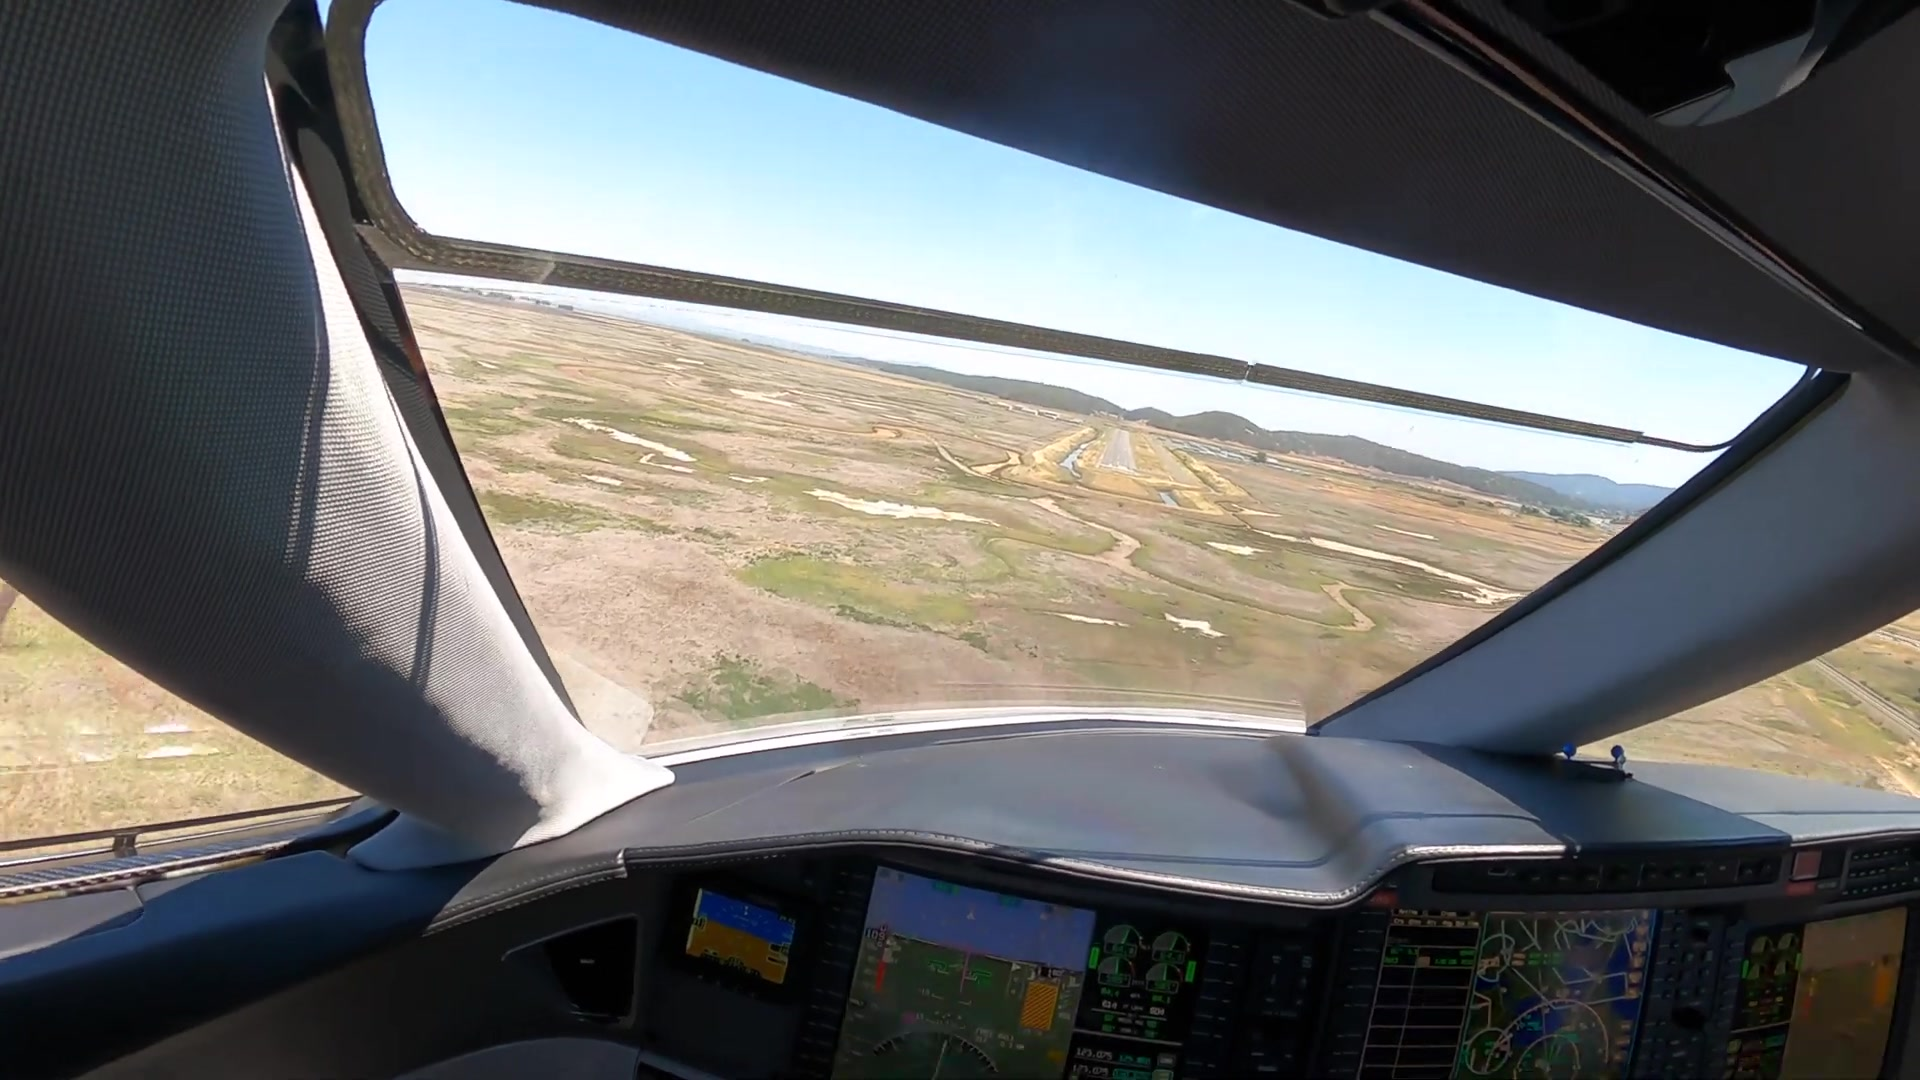runway: (1095, 431, 1139, 473)
